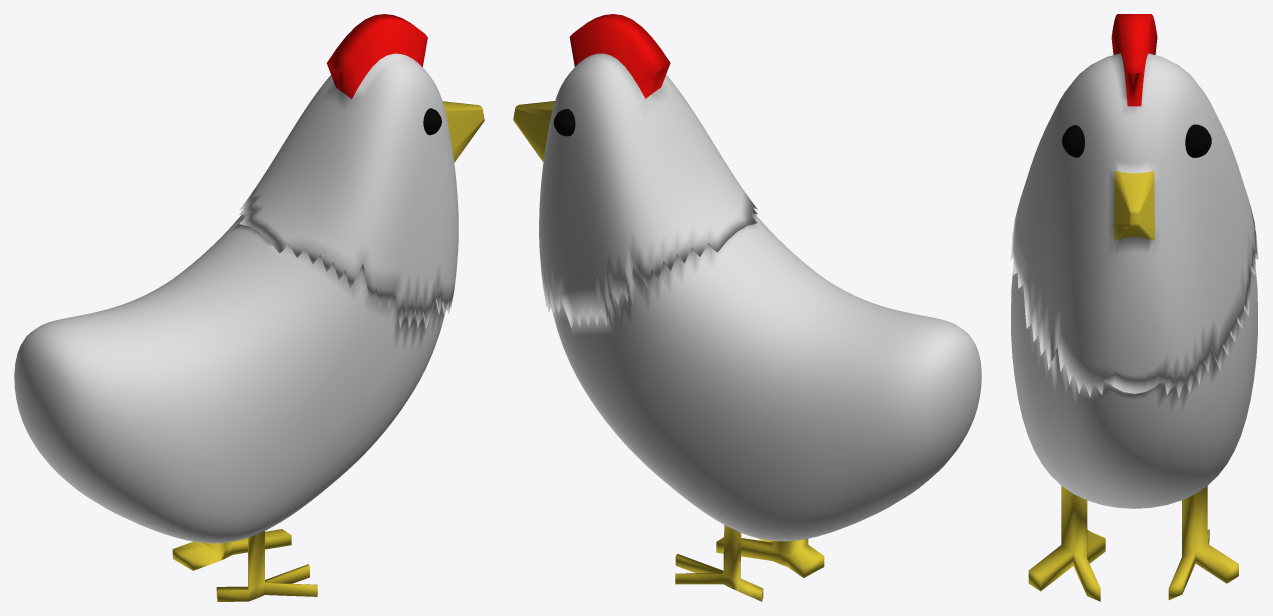
File: Weiland_Kip_GGJ.fbx
3 views of the same model, side by side, from view 1: azimuth 30°, elevation 25°; view 2: azimuth 150°, elevation 25°; view 3: azimuth 270°, elevation 25° (orthographic). The views are drawn at different scales.
Parts seen in each view (by area): view 1: Sphere.002; view 2: Sphere.002; view 3: Sphere.002.
Part boxes in pixels (x1,y1,x2,y2): Sphere.002: (14, 14, 484, 601); Sphere.002: (513, 14, 981, 601); Sphere.002: (1010, 14, 1258, 601).
Size of the model in its own units: 420 by 466 by 164.
